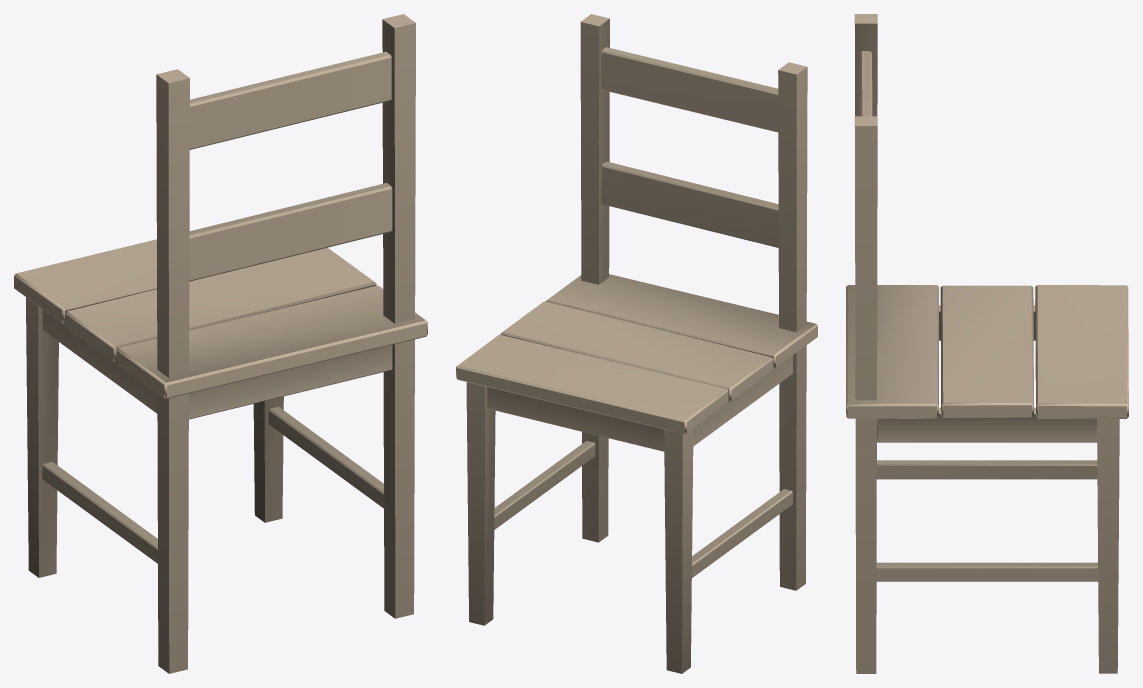
File: chair.glb
3 renders of one model, left to right at view 1: azimuth 30°, elevation 25°; view 2: azimuth 150°, elevation 25°; view 3: azimuth 270°, elevation 25°, orthographic. The views are drawn at different scales.
Visible parts, largest first — view 1: static; view 2: static; view 3: static.
Part boxes in pixels (x1,y1,x2,y2): static: (14, 14, 427, 673); static: (456, 14, 817, 673); static: (846, 14, 1128, 673).
Size of the model in its own units: 0.4204 by 0.9 by 0.4205.
